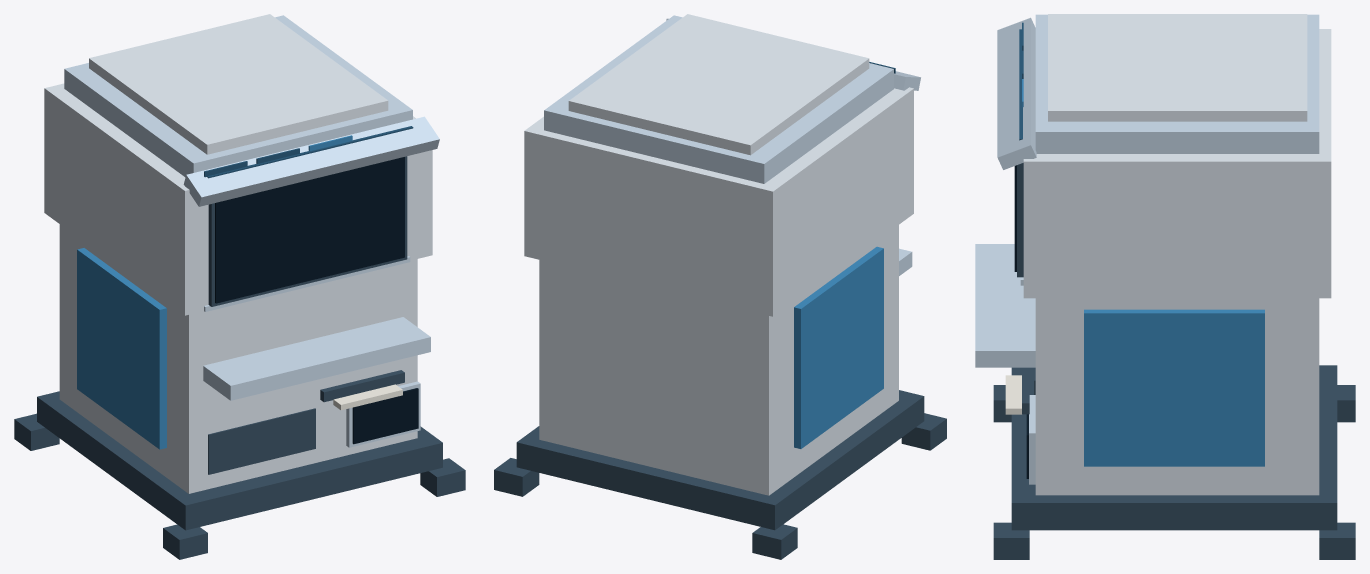
The model's file is airport_checkin.obj.
3 views of the same model, side by side, from view 1: azimuth 30°, elevation 25°; view 2: azimuth 150°, elevation 25°; view 3: azimuth 270°, elevation 25° (orthographic). The views are drawn at different scales.
Visible parts, largest first — view 1: airport_checkin_e05, airport_checkin_e06, airport_checkin_e08, airport_checkin_e10, airport_checkin_e04, airport_checkin_e20, airport_checkin_e07, airport_checkin_e14, airport_checkin_e13, airport_checkin_e19, airport_checkin_e26, airport_checkin_e09 (+8 smaller); view 2: airport_checkin_e06, airport_checkin_e05, airport_checkin_e08, airport_checkin_e04, airport_checkin_e20, airport_checkin_e07, airport_checkin_e02, airport_checkin_e03, airport_checkin_e00; view 3: airport_checkin_e06, airport_checkin_e21, airport_checkin_e05, airport_checkin_e08, airport_checkin_e04, airport_checkin_e07, airport_checkin_e14, airport_checkin_e13, airport_checkin_e03, airport_checkin_e01, airport_checkin_e09, airport_checkin_e02 (+3 smaller).
Part boxes in pixels (left/top/right/bottom): airport_checkin_e05: left=59, top=224, right=417, bottom=493; airport_checkin_e06: left=44, top=83, right=432, bottom=315; airport_checkin_e08: left=89, top=14, right=388, bottom=154; airport_checkin_e10: left=215, top=157, right=404, bottom=303; airport_checkin_e04: left=37, top=391, right=442, bottom=530; airport_checkin_e20: left=77, top=248, right=166, bottom=449; airport_checkin_e07: left=64, top=15, right=412, bottom=177; airport_checkin_e14: left=203, top=317, right=430, bottom=400; airport_checkin_e13: left=183, top=116, right=439, bottom=206; airport_checkin_e19: left=208, top=408, right=315, bottom=474; airport_checkin_e26: left=352, top=388, right=418, bottom=444; airport_checkin_e09: left=208, top=156, right=407, bottom=306; airport_checkin_e06: left=524, top=87, right=913, bottom=316; airport_checkin_e05: left=539, top=225, right=898, bottom=495; airport_checkin_e08: left=568, top=14, right=869, bottom=155; airport_checkin_e04: left=516, top=390, right=924, bottom=530; airport_checkin_e20: left=794, top=246, right=883, bottom=448; airport_checkin_e07: left=544, top=15, right=893, bottom=183; airport_checkin_e02: left=752, top=524, right=797, bottom=559; airport_checkin_e03: left=494, top=458, right=539, bottom=496; airport_checkin_e00: left=901, top=413, right=946, bottom=450; airport_checkin_e06: left=1023, top=29, right=1331, bottom=298; airport_checkin_e21: left=1084, top=309, right=1264, bottom=466; airport_checkin_e05: left=1035, top=298, right=1319, bottom=495; airport_checkin_e08: left=1048, top=14, right=1307, bottom=121; airport_checkin_e04: left=1011, top=365, right=1337, bottom=530; airport_checkin_e07: left=1035, top=14, right=1319, bottom=153; airport_checkin_e14: left=975, top=244, right=1035, bottom=367; airport_checkin_e13: left=997, top=17, right=1036, bottom=169; airport_checkin_e03: left=1319, top=522, right=1355, bottom=559; airport_checkin_e01: left=993, top=522, right=1029, bottom=559; airport_checkin_e09: left=1017, top=163, right=1023, bottom=277; airport_checkin_e02: left=1337, top=385, right=1355, bottom=422.
Size of the model in its own units: 0.75 by 0.9625 by 0.7875.
